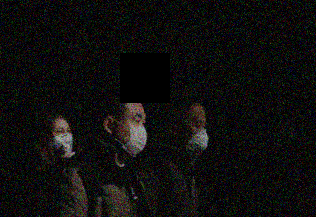with_mask: (121, 111, 148, 157), (185, 116, 209, 155), (52, 124, 75, 157)
